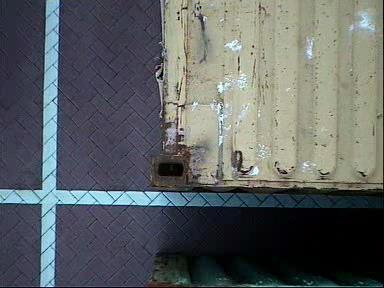groundmarker_2: (168, 1, 237, 70)
